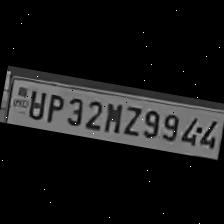2: (80, 93, 106, 130)
3: (61, 91, 85, 127)
4: (176, 109, 201, 146), (194, 112, 218, 148)
9: (138, 104, 162, 140), (157, 106, 181, 142)
M: (98, 96, 123, 134)
P: (41, 88, 65, 124)
U: (22, 86, 46, 119)
Z: (117, 99, 143, 138)
